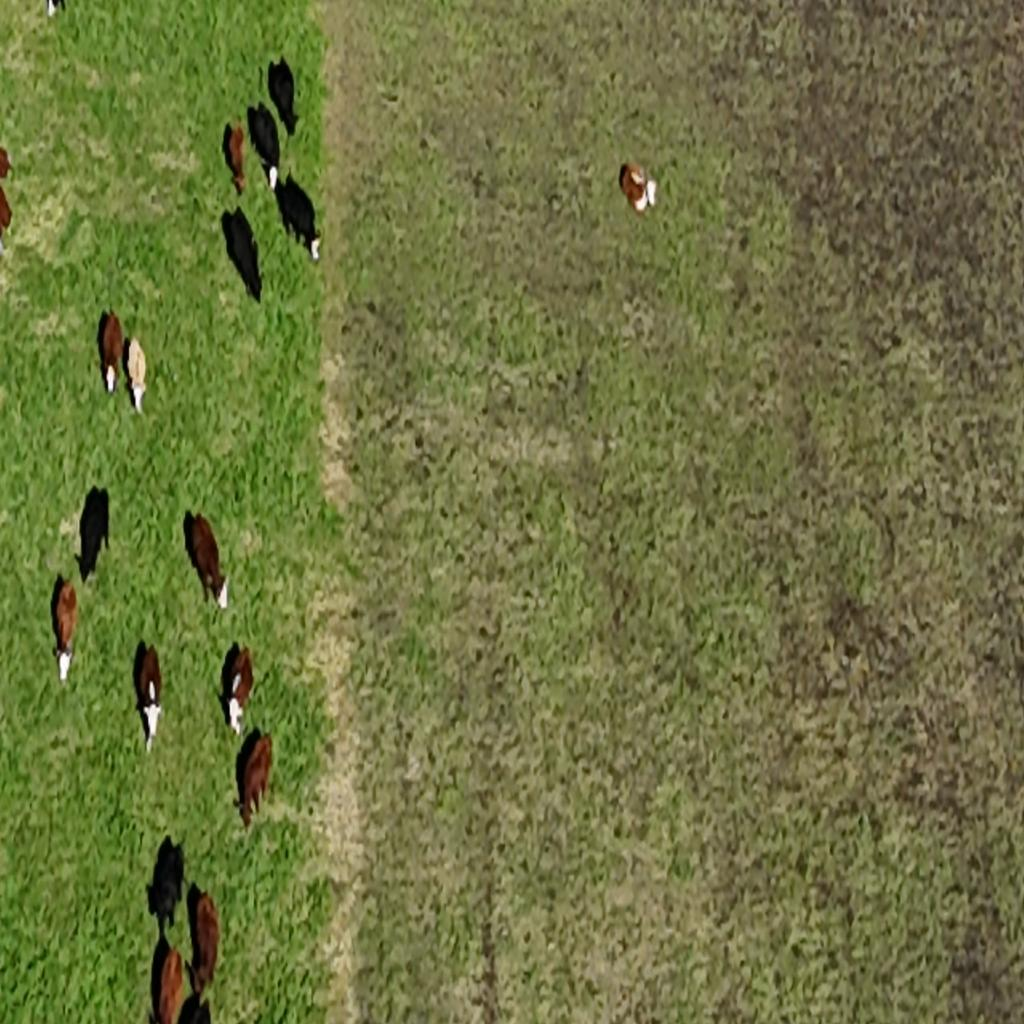cow: (273, 168, 321, 260), (186, 511, 230, 611), (185, 883, 219, 1005), (221, 205, 262, 303), (144, 832, 182, 929), (133, 639, 164, 751), (76, 484, 110, 585), (238, 737, 274, 832), (150, 935, 186, 1024), (219, 642, 252, 737), (247, 98, 280, 188), (50, 576, 78, 682), (268, 55, 299, 134), (618, 159, 658, 215), (98, 308, 124, 394), (222, 121, 246, 197), (127, 336, 147, 410)
